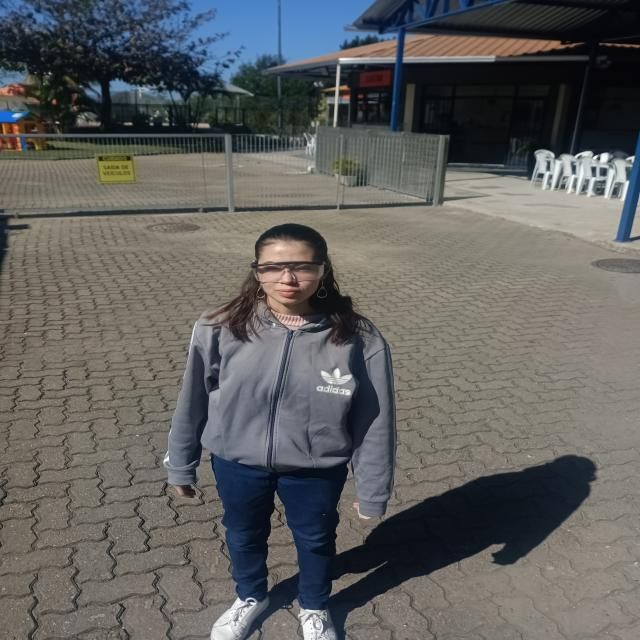oculos-epi: (251, 262, 324, 282)
